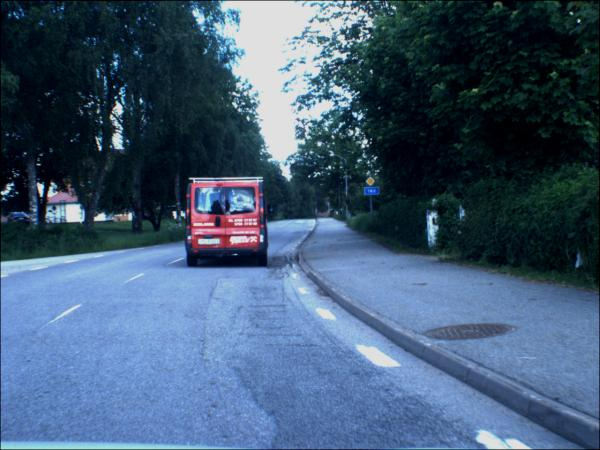PRIORITY_ROAD: (367, 178, 376, 188)
